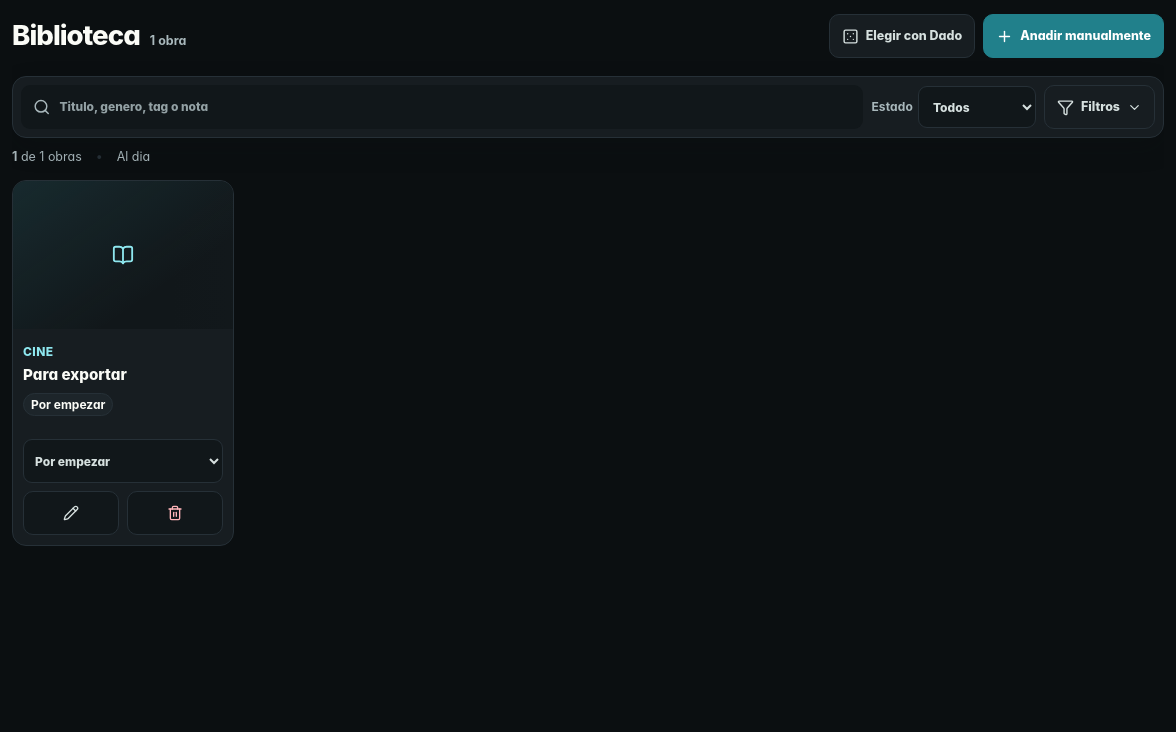
Test: LibraryTab simplificada › muestra exportacion completa o de seleccion dentro de Filtros
The width and height of the screenshot is (1176, 732).
Click the button "Filtros".
click(1099, 107)  # box top-left (1044, 85), bottom-right (1155, 129)
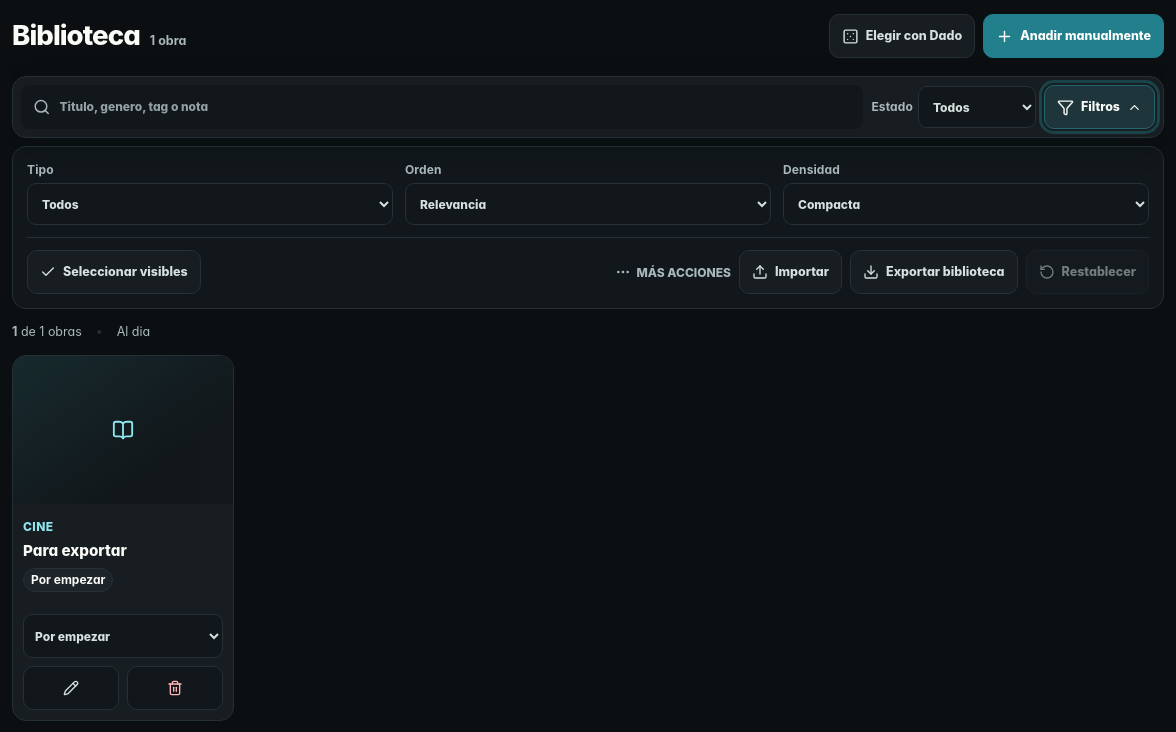
Now the button "Exportar biblioteca" is enabled, box top-left (850, 250), bottom-right (1018, 294)
Click the button "Seleccionar visibles".
click(114, 272)  # box top-left (27, 250), bottom-right (201, 294)
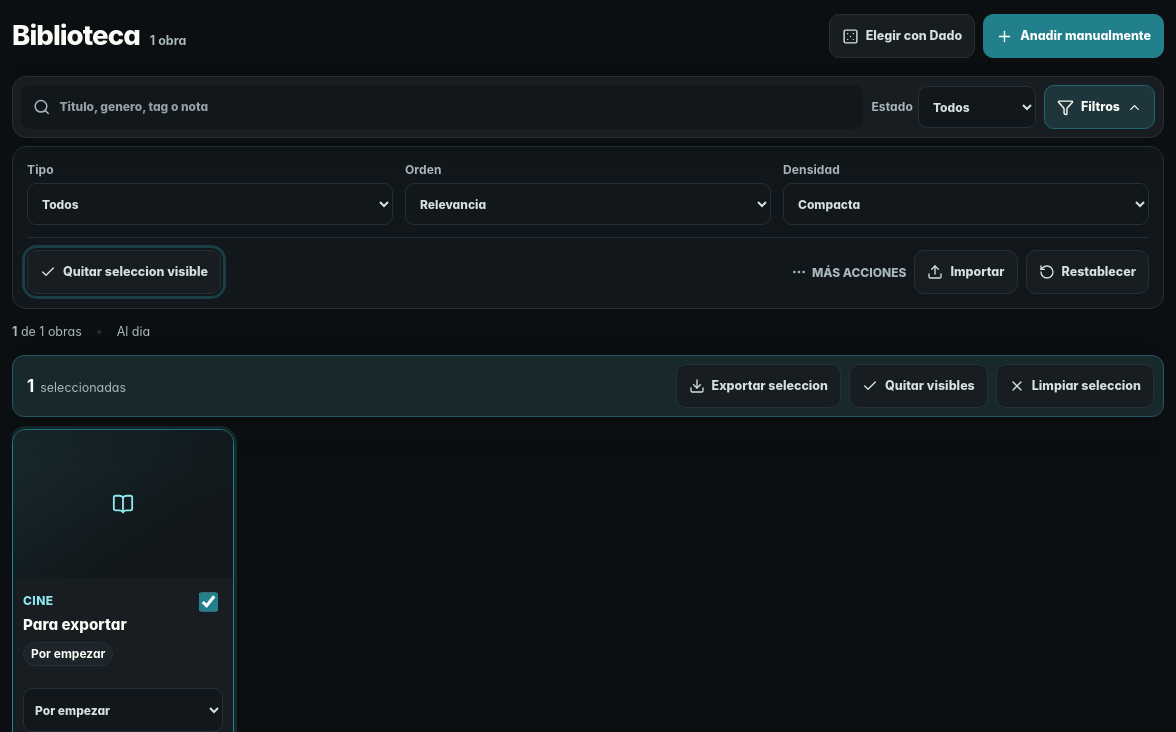
Now the button "Exportar seleccion" is enabled, box top-left (676, 364), bottom-right (841, 408)
